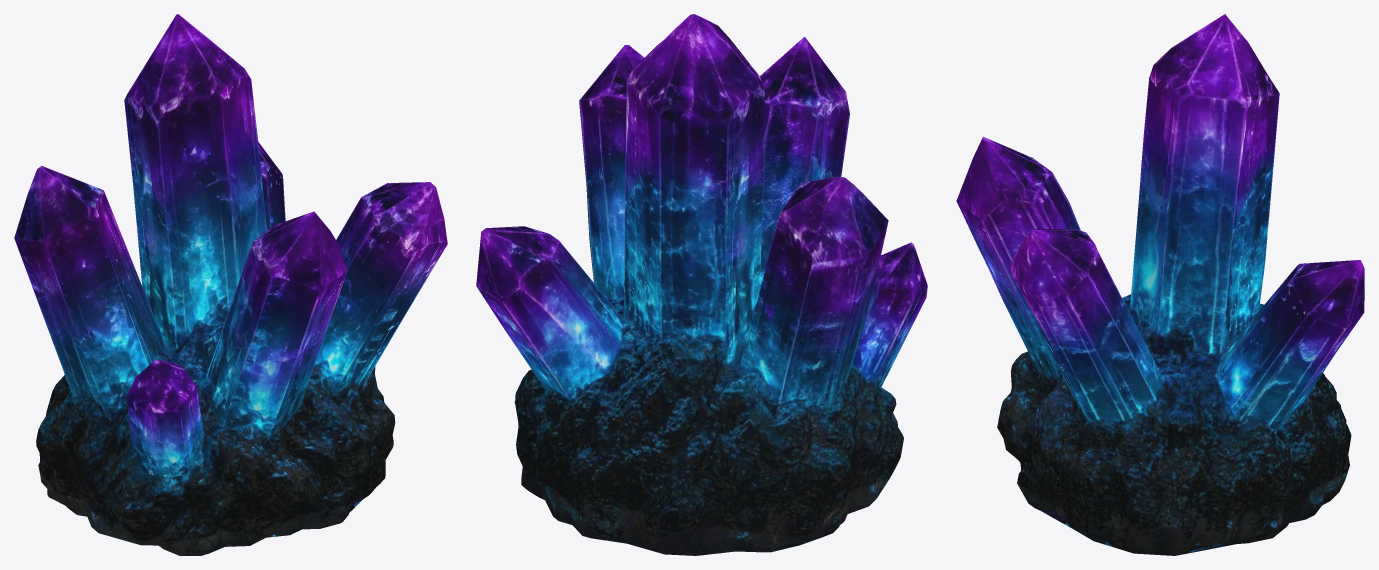
File: crystal-cluster-aurora.glb
3 views of the same model, side by side, from view 1: azimuth 30°, elevation 25°; view 2: azimuth 150°, elevation 25°; view 3: azimuth 270°, elevation 25° (orthographic). The views are drawn at different scales.
Visible parts, largest first — view 1: Mesh1.0; view 2: Mesh1.0; view 3: Mesh1.0.
Part boxes in pixels (x1,y1,x2,y2): Mesh1.0: (14,14,447,555); Mesh1.0: (476,14,927,555); Mesh1.0: (956,14,1364,555).
Size of the model in its own units: 1.51 by 1.91 by 1.53.
1 material, 1 textured.
